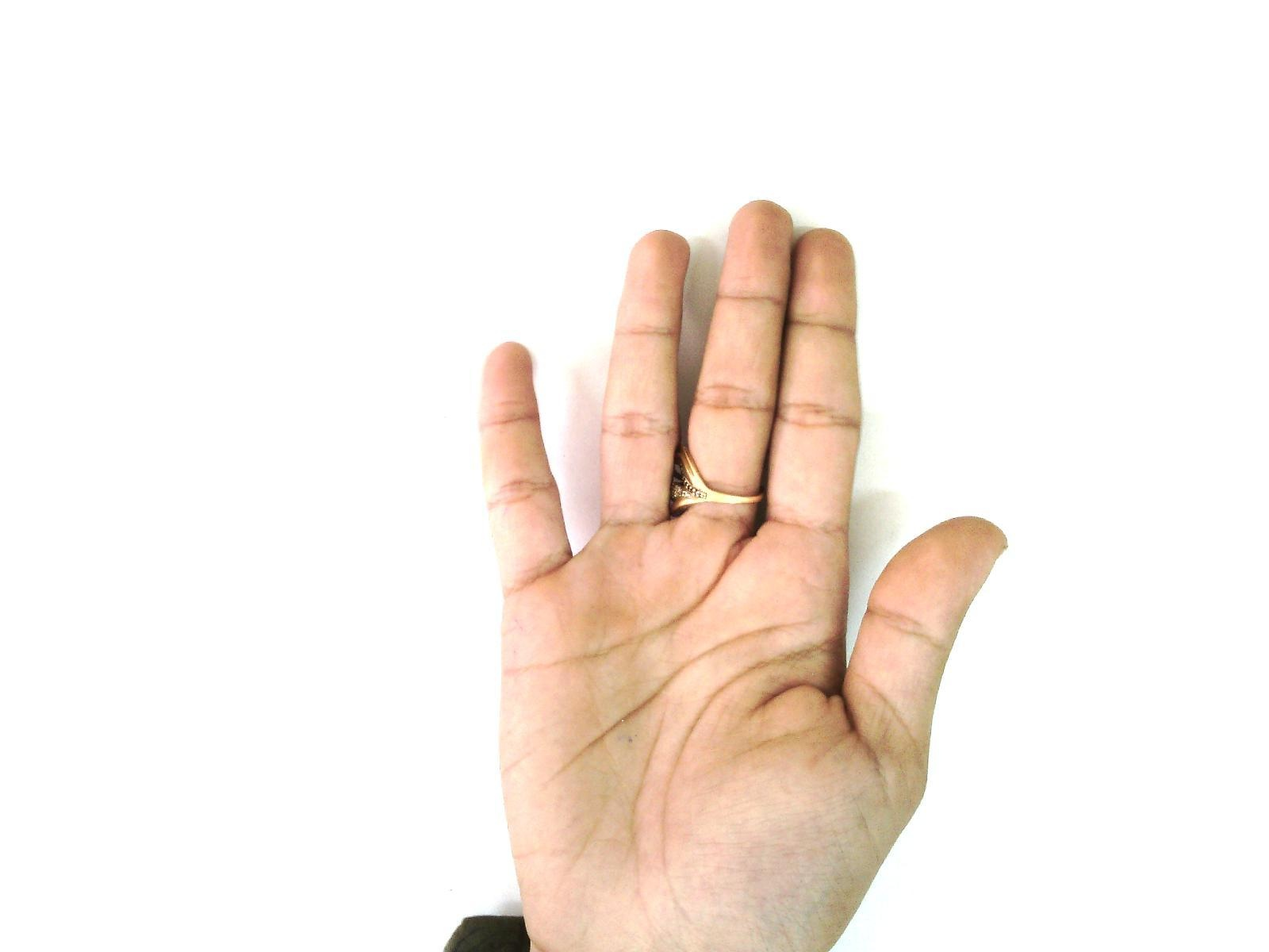open_palm: (470, 199, 1010, 952)
